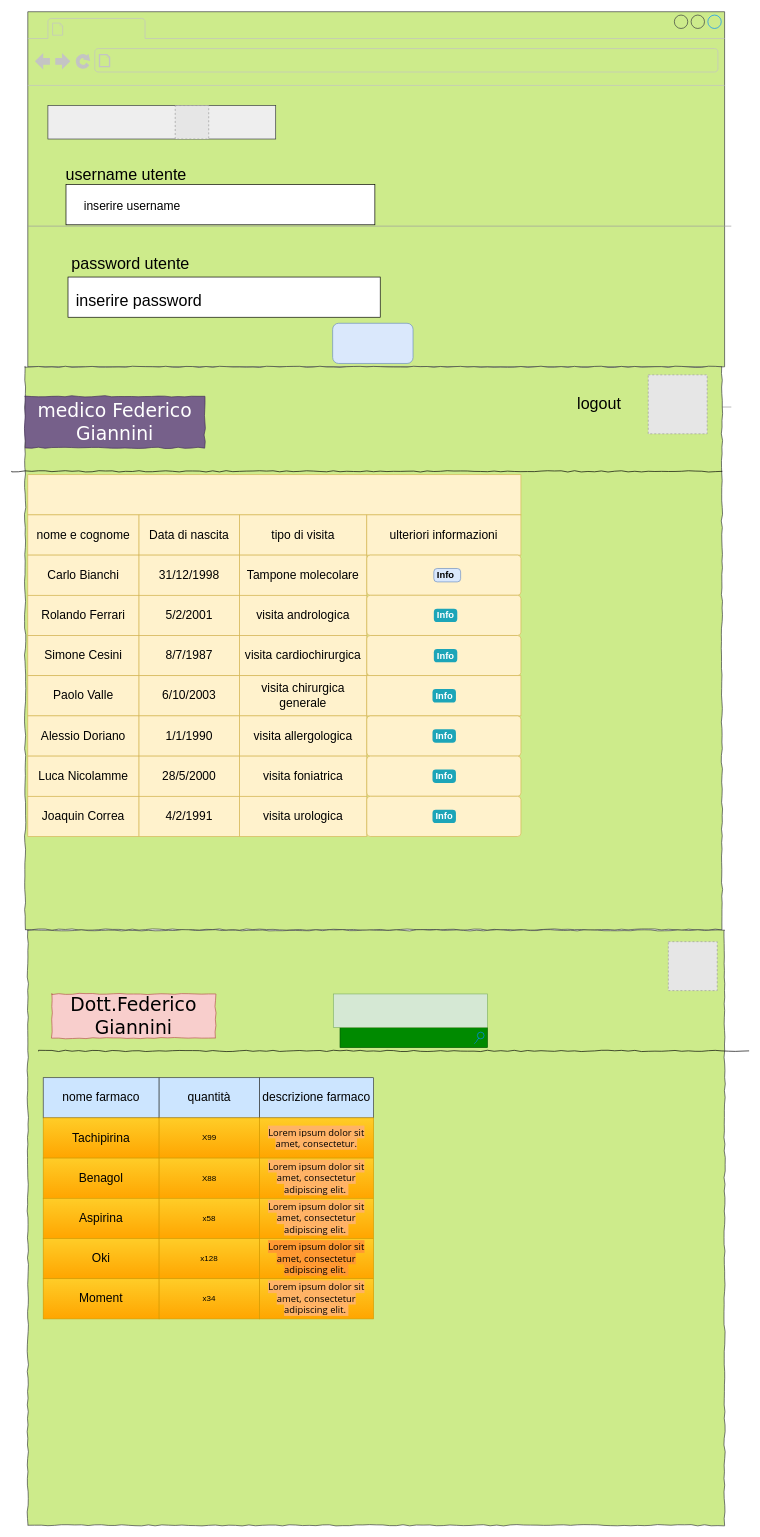
The diagram is 760 pixels wide and 1537 high, and some of its shapes have lost their labels. Grey dashed boxes stand in for pictures. Each missing label, with the box of its shape:
cercare qui il farmaco: (333, 993, 487, 1027)
https/::ospedaleroma3: (114, 51, 282, 69)
login: (332, 323, 413, 363)
login utente: (47, 105, 276, 139)
Page 1: (67, 19, 142, 37)
pazienti: (27, 474, 521, 515)
Search: (339, 1027, 487, 1048)
